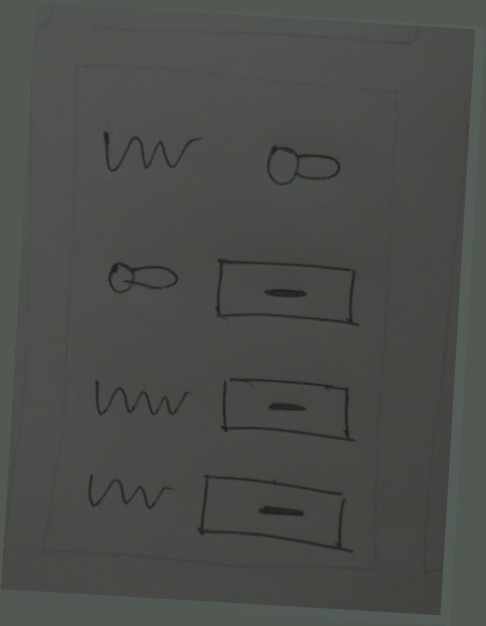button: (193, 468, 368, 558), (207, 251, 374, 334), (211, 370, 367, 453)
switch: (261, 136, 348, 204), (96, 252, 184, 303)
text: (93, 123, 207, 182), (85, 371, 195, 428), (78, 465, 177, 519)
